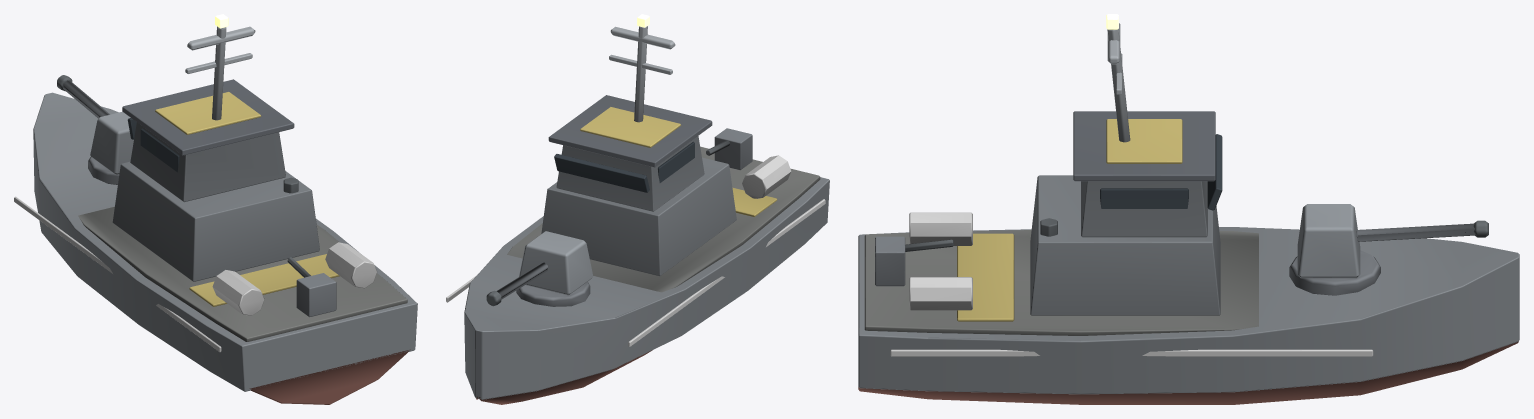
File: patrol_boat.glb
3 renders of one model, left to right at view 1: azimuth 30°, elevation 25°; view 2: azimuth 150°, elevation 25°; view 3: azimuth 270°, elevation 25°, orthographic. The views are drawn at different scales.
Parts seen in each view (by area): view 1: Body, Turret, Radar; view 2: Body, Turret, Radar; view 3: Body, Turret.
Part boxes in pixels (<box>): Body: <box>14,14,417,404</box>; Turret: <box>57,75,133,184</box>; Radar: <box>187,26,255,50</box>; Body: <box>446,14,829,404</box>; Turret: <box>486,231,593,306</box>; Radar: <box>610,26,675,49</box>; Body: <box>858,14,1519,404</box>; Turret: <box>1289,204,1488,295</box>.
Bounding box in the file's own units: 2.12 × 3.33 × 5.2.
